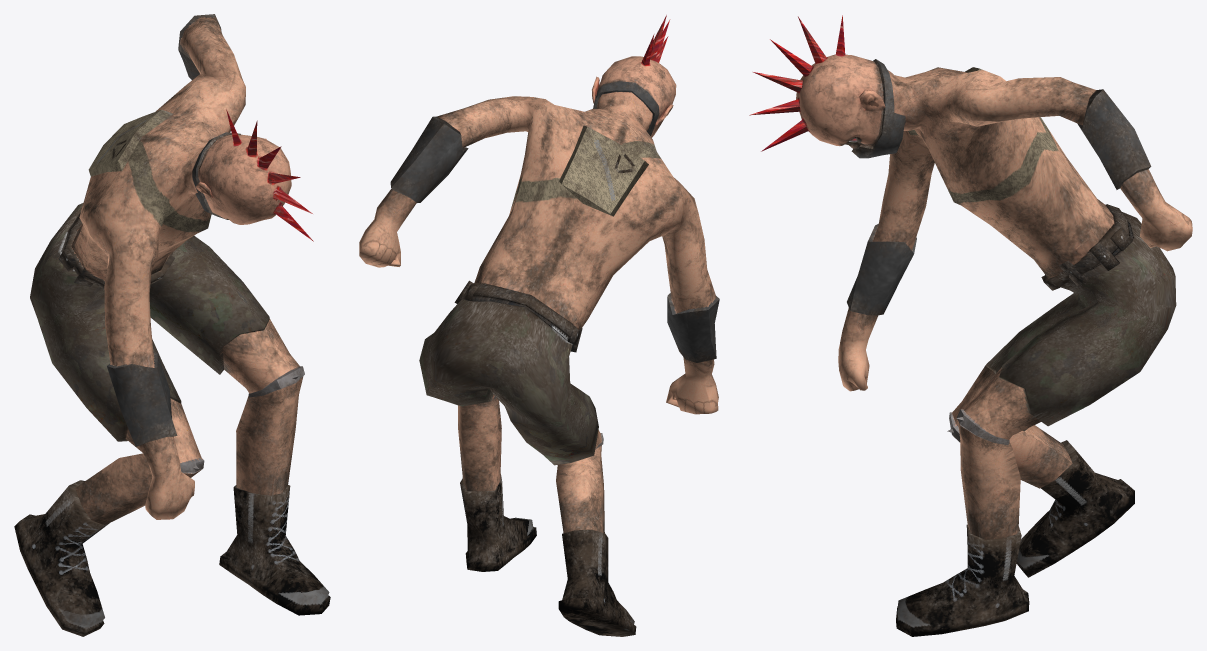
Rendered from Anim_cogerobjeto_npc2.0029.obj.
The picture shows the model from 3 angles, left to right: view 1: azimuth 30°, elevation 25°; view 2: azimuth 150°, elevation 25°; view 3: azimuth 270°, elevation 25°; orthographic projection. The views are drawn at different scales.
Parts seen in each view (by area): view 1: polySurface1; view 2: polySurface1; view 3: polySurface1.
Boxes of the visible parts, x1,y1,x2,y2 form: polySurface1: (14,14,330,636); polySurface1: (359,15,719,636); polySurface1: (749,15,1192,636).
Size of the model in its own units: 3.23 by 7.37 by 5.1.
